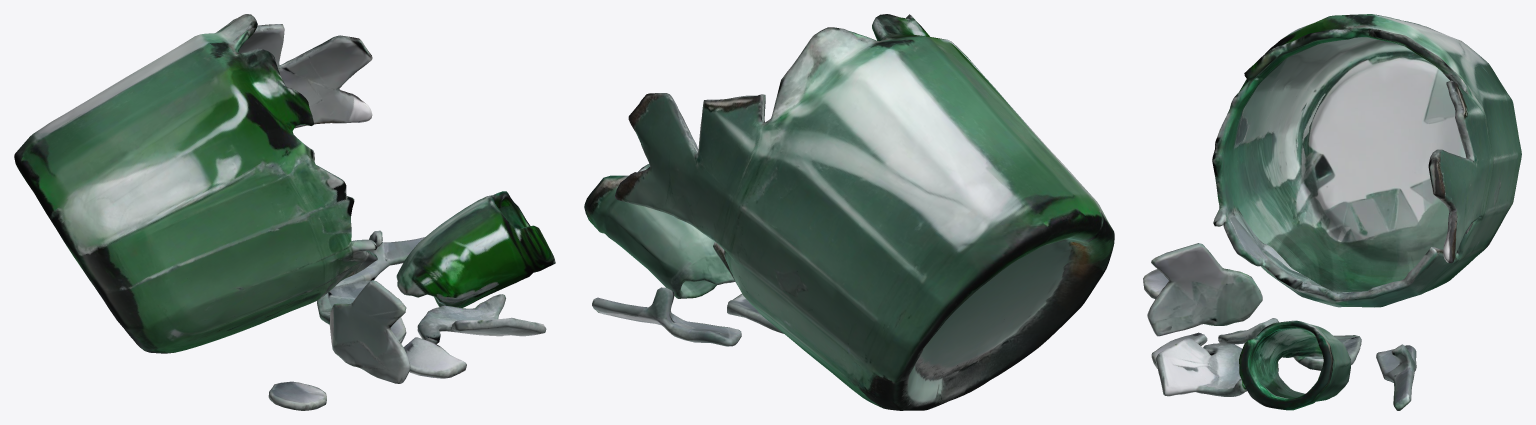
The model's file is sharp edges.gltf.
The picture shows the model from 3 angles, left to right: view 1: azimuth 30°, elevation 25°; view 2: azimuth 150°, elevation 25°; view 3: azimuth 270°, elevation 25°; orthographic projection. The views are drawn at different scales.
Parts seen in each view (by area): view 1: Mesh1.0; view 2: Mesh1.0; view 3: Mesh1.0.
Part boxes in pixels (x1=…): Mesh1.0: x1=14, y1=14, x2=555, y2=410; Mesh1.0: x1=584, y1=14, x2=1114, y2=410; Mesh1.0: x1=1143, y1=14, x2=1521, y2=410.
Size of the model in its own units: 2 by 1.22 by 1.41.
Materials: 1 (1 with a texture image).
